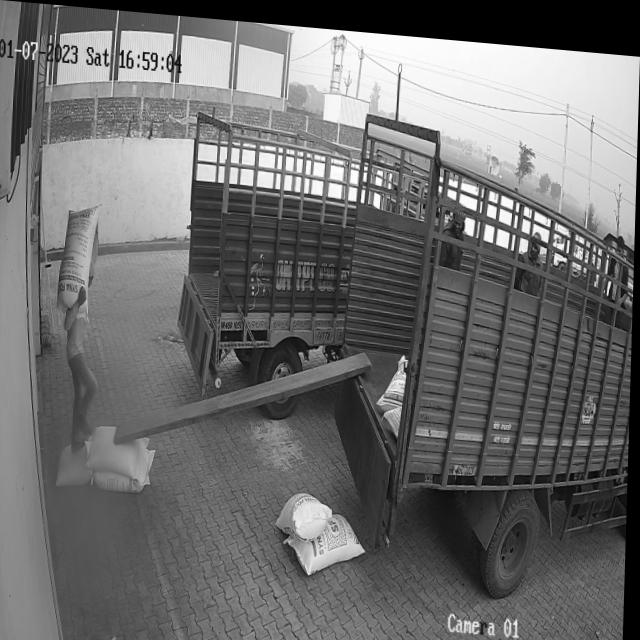sack: (287, 502, 368, 574), (58, 199, 101, 324), (88, 421, 153, 478), (93, 444, 157, 492), (279, 484, 335, 538), (57, 441, 96, 485)
